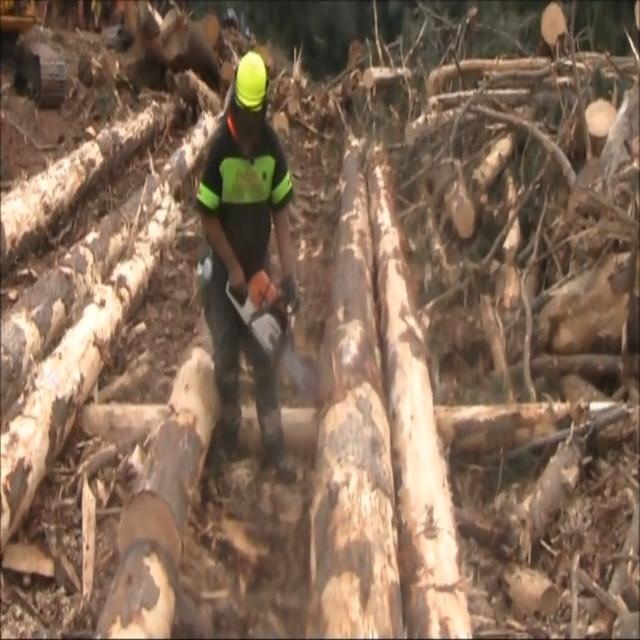Chainsaw: (218, 231, 344, 424)
